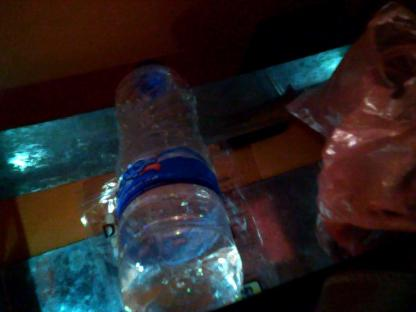Plastic Bottle: (113, 60, 249, 312)
